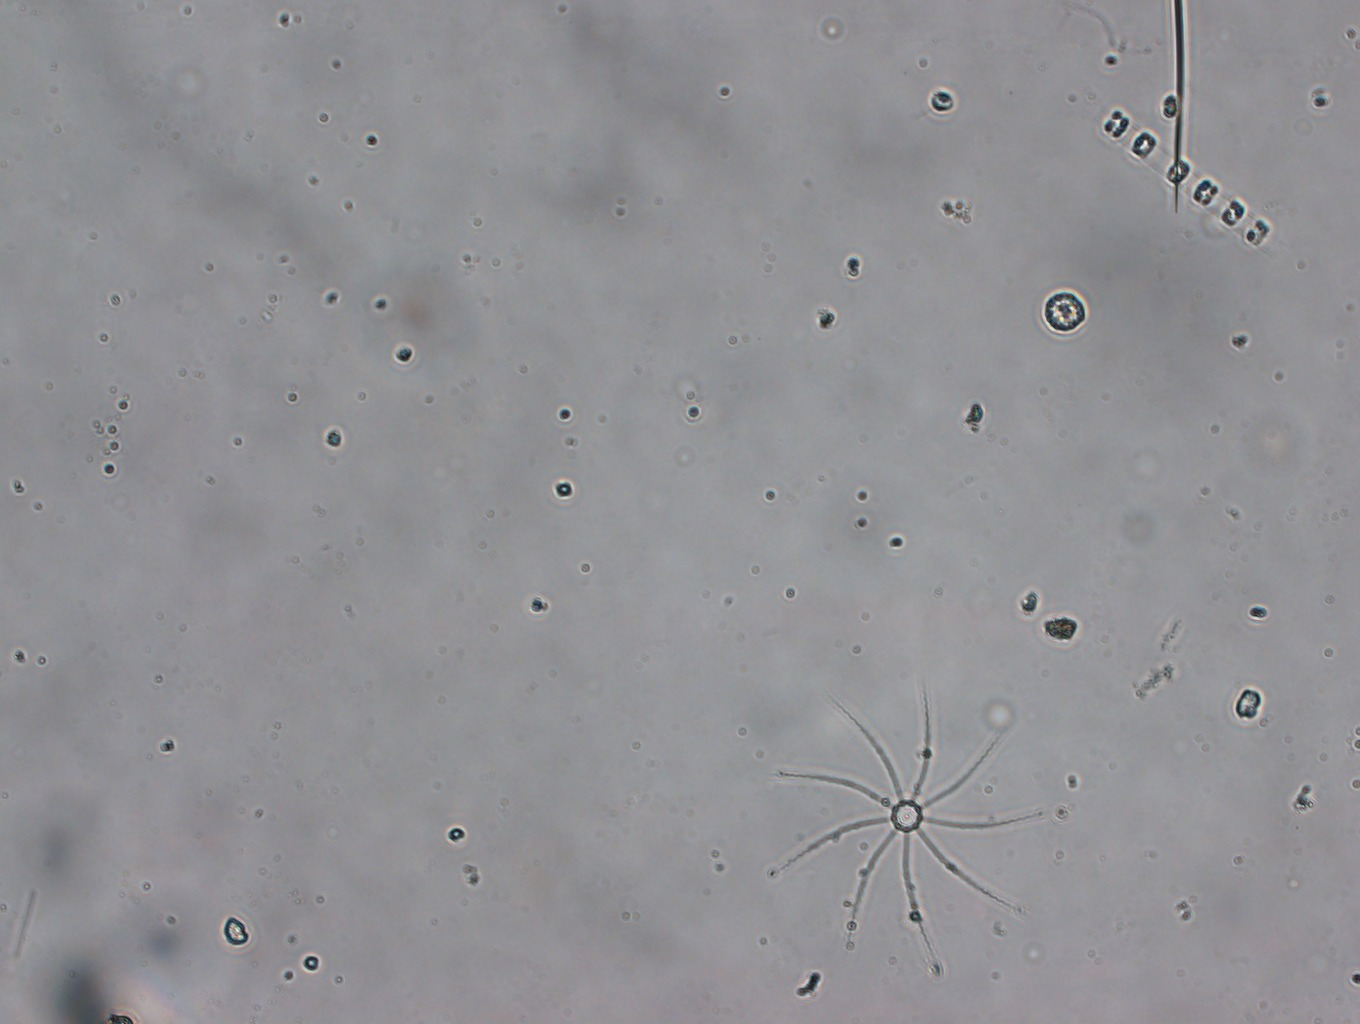bacteriastrum: (764, 679, 1053, 972)
skeletonema: (1101, 106, 1273, 248)
